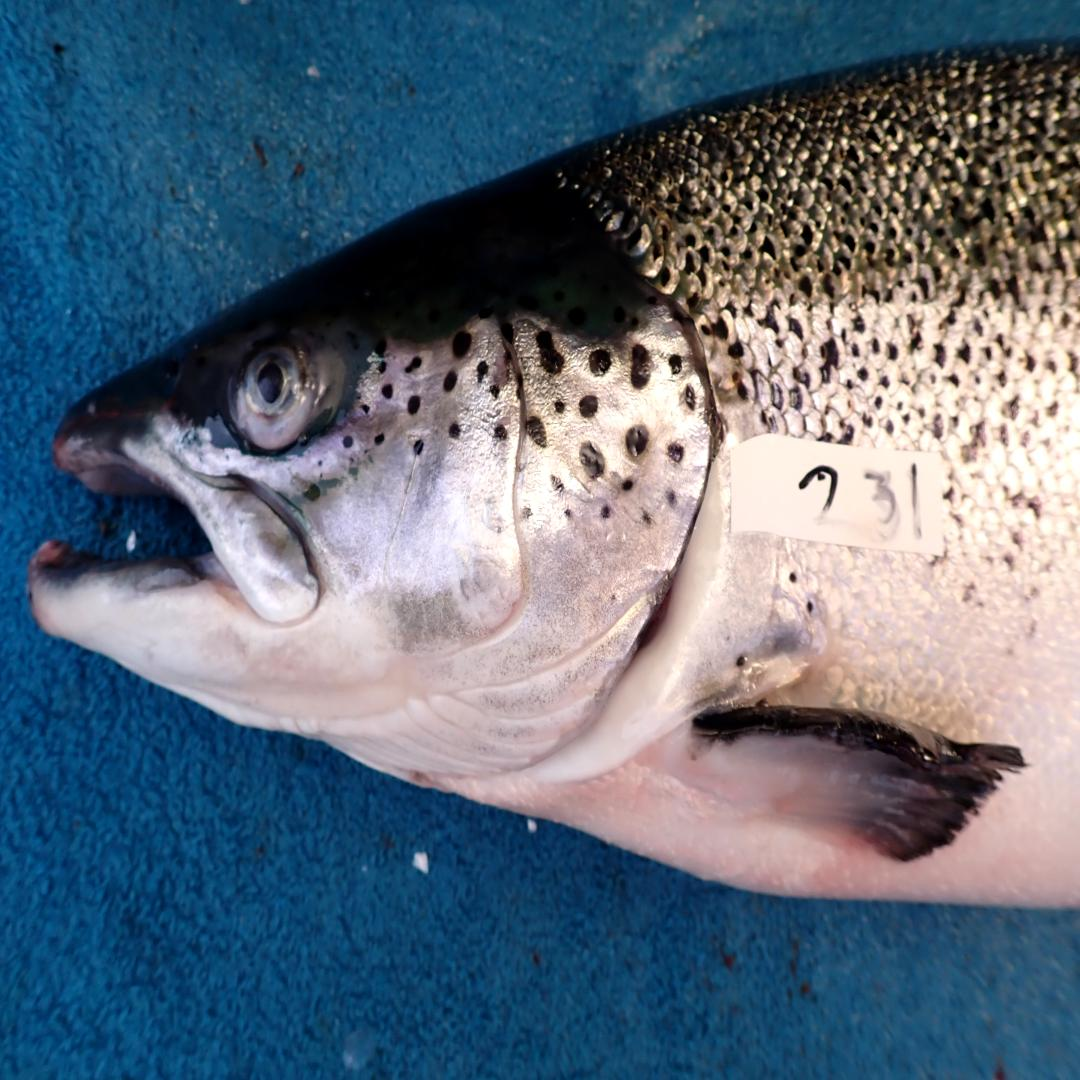roi: (312, 310, 716, 790)
